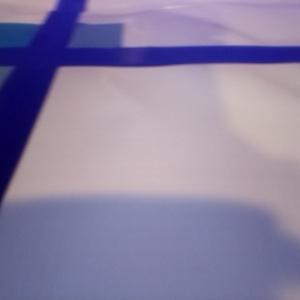top_left: (1, 21, 66, 62)
top_right: (43, 22, 121, 64)
